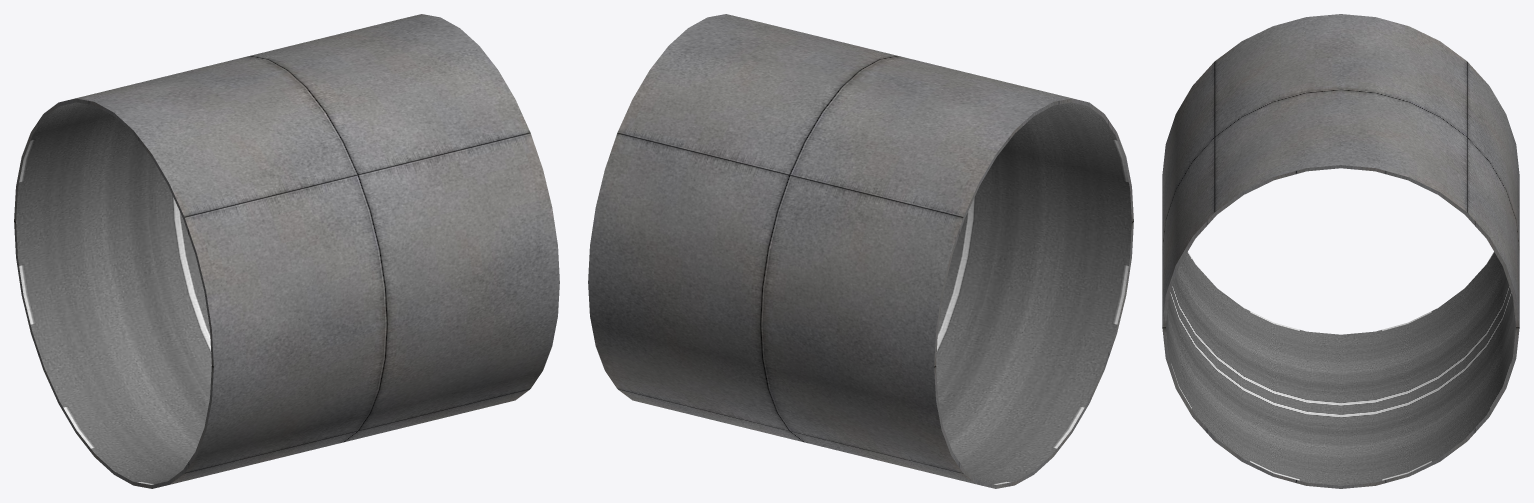
Rendered from loopSmall.fbx.
3 renders of one model, left to right at view 1: azimuth 30°, elevation 25°; view 2: azimuth 150°, elevation 25°; view 3: azimuth 270°, elevation 25°, orthographic. The views are drawn at different scales.
Visible parts, largest first — view 1: 1,1,1; view 2: 1,1,1; view 3: 1,1,1.
Boxes of the visible parts, bbox=[...] form: 1,1,1: bbox=[14, 14, 559, 488]; 1,1,1: bbox=[588, 14, 1133, 488]; 1,1,1: bbox=[1162, 14, 1519, 488].
Bounding box in the file's own units: 394 × 394 × 394.
2 materials, 2 textured.
